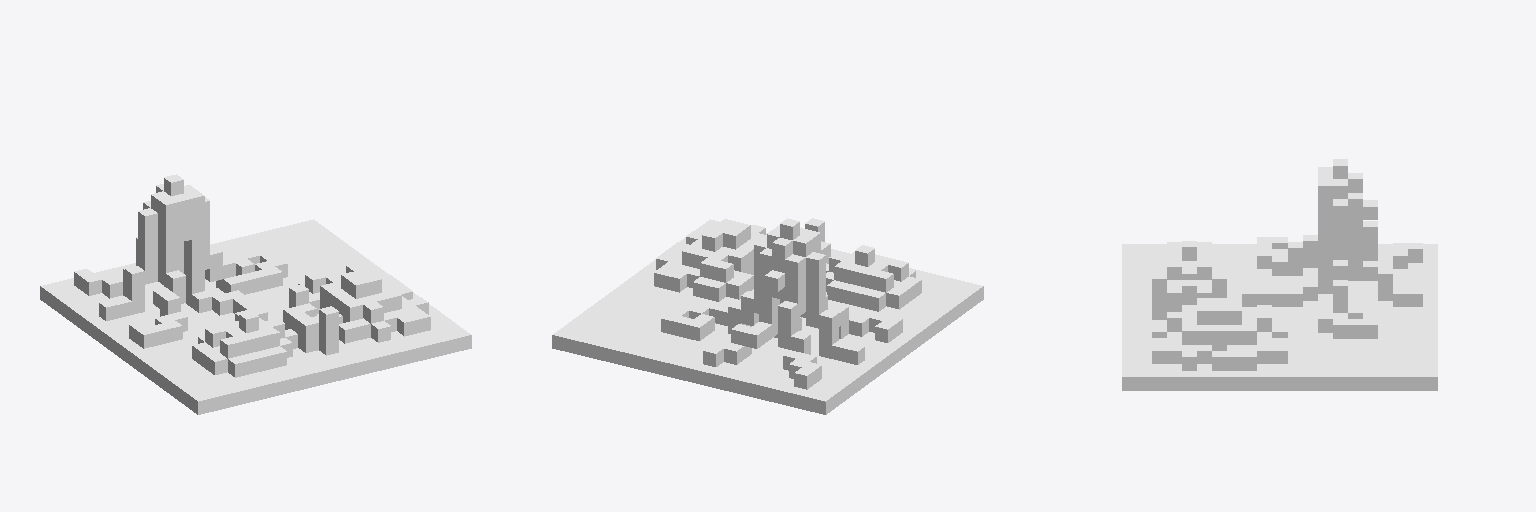
The model's file is AlienPlate.obj.
The picture shows the model from 3 angles: view 1: azimuth 30°, elevation 25°; view 2: azimuth 150°, elevation 25°; view 3: azimuth 270°, elevation 25°; orthographic projection.
Bounding box in the file's own units: 21 × 10 × 21.